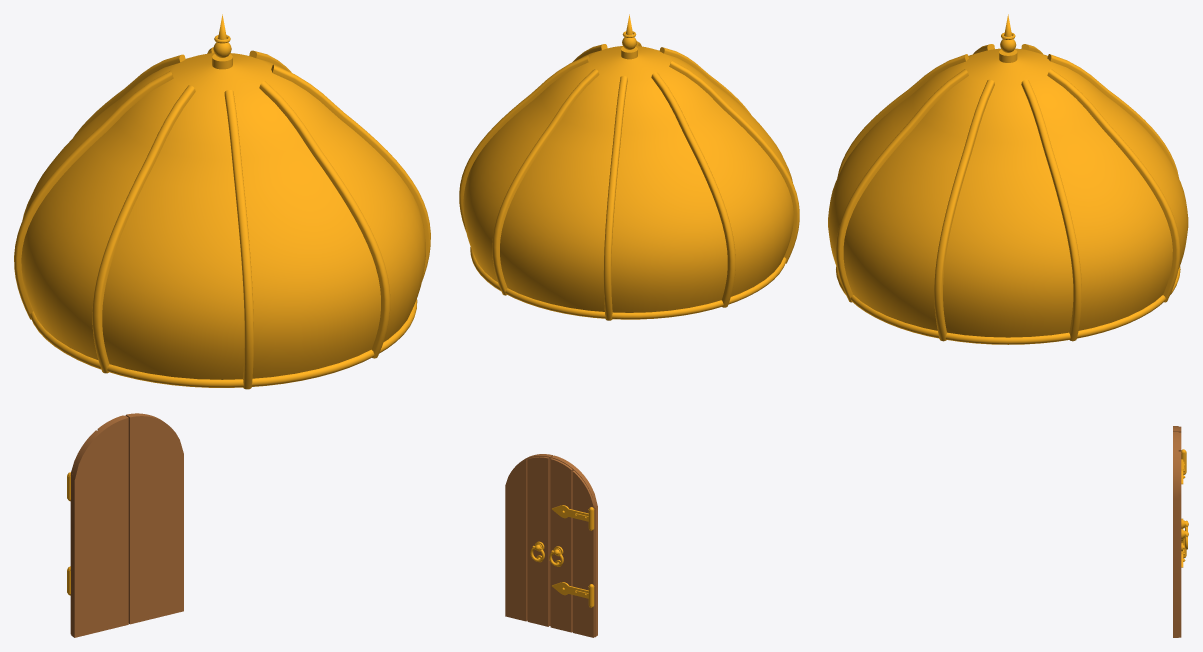
The model's file is HaloDomeHouse_04_ornaments.glb.
3 renders of one model, left to right at view 1: azimuth 30°, elevation 25°; view 2: azimuth 150°, elevation 25°; view 3: azimuth 270°, elevation 25°, orthographic. The views are drawn at different scales.
Parts seen in each view (by area): view 1: Orn_HaloDomeHouse_04_Dome, Orn_HaloDomeHouse_04_Dome_Ribs, Orn_HaloDomeHouse_04_Leaf0, Orn_HaloDomeHouse_04_Leaf1; view 2: Orn_HaloDomeHouse_04_Dome, Orn_HaloDomeHouse_04_Dome_Ribs, Orn_HaloDomeHouse_04_Leaf1, Orn_HaloDomeHouse_04_Leaf0, Orn_HaloDomeHouse_04_Hinge0, Orn_HaloDomeHouse_04_Hinge1; view 3: Orn_HaloDomeHouse_04_Dome, Orn_HaloDomeHouse_04_Dome_Ribs, Orn_HaloDomeHouse_04_Leaf1.
Boxes of the visible parts, left/top/right/bottom form: Orn_HaloDomeHouse_04_Dome: left=21, top=14, right=425, bottom=387; Orn_HaloDomeHouse_04_Dome_Ribs: left=14, top=47, right=430, bottom=389; Orn_HaloDomeHouse_04_Leaf0: left=70, top=415, right=128, bottom=637; Orn_HaloDomeHouse_04_Leaf1: left=126, top=413, right=183, bottom=624; Orn_HaloDomeHouse_04_Dome: left=463, top=14, right=793, bottom=319; Orn_HaloDomeHouse_04_Dome_Ribs: left=459, top=41, right=799, bottom=320; Orn_HaloDomeHouse_04_Leaf1: left=505, top=454, right=552, bottom=626; Orn_HaloDomeHouse_04_Leaf0: left=550, top=455, right=597, bottom=637; Orn_HaloDomeHouse_04_Hinge0: left=552, top=582, right=594, bottom=607; Orn_HaloDomeHouse_04_Hinge1: left=552, top=505, right=594, bottom=530; Orn_HaloDomeHouse_04_Dome: left=828, top=14, right=1188, bottom=344; Orn_HaloDomeHouse_04_Dome_Ribs: left=836, top=44, right=1180, bottom=341; Orn_HaloDomeHouse_04_Leaf1: left=1173, top=431, right=1181, bottom=637.
Size of the model in its own units: 13.73 by 25.25 by 13.76.
